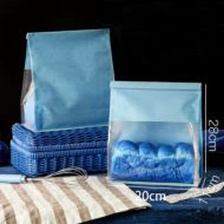snack: (99, 73, 209, 191), (14, 19, 121, 135)
